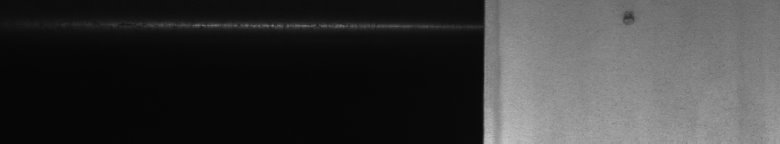fi: (616, 4, 639, 31)
